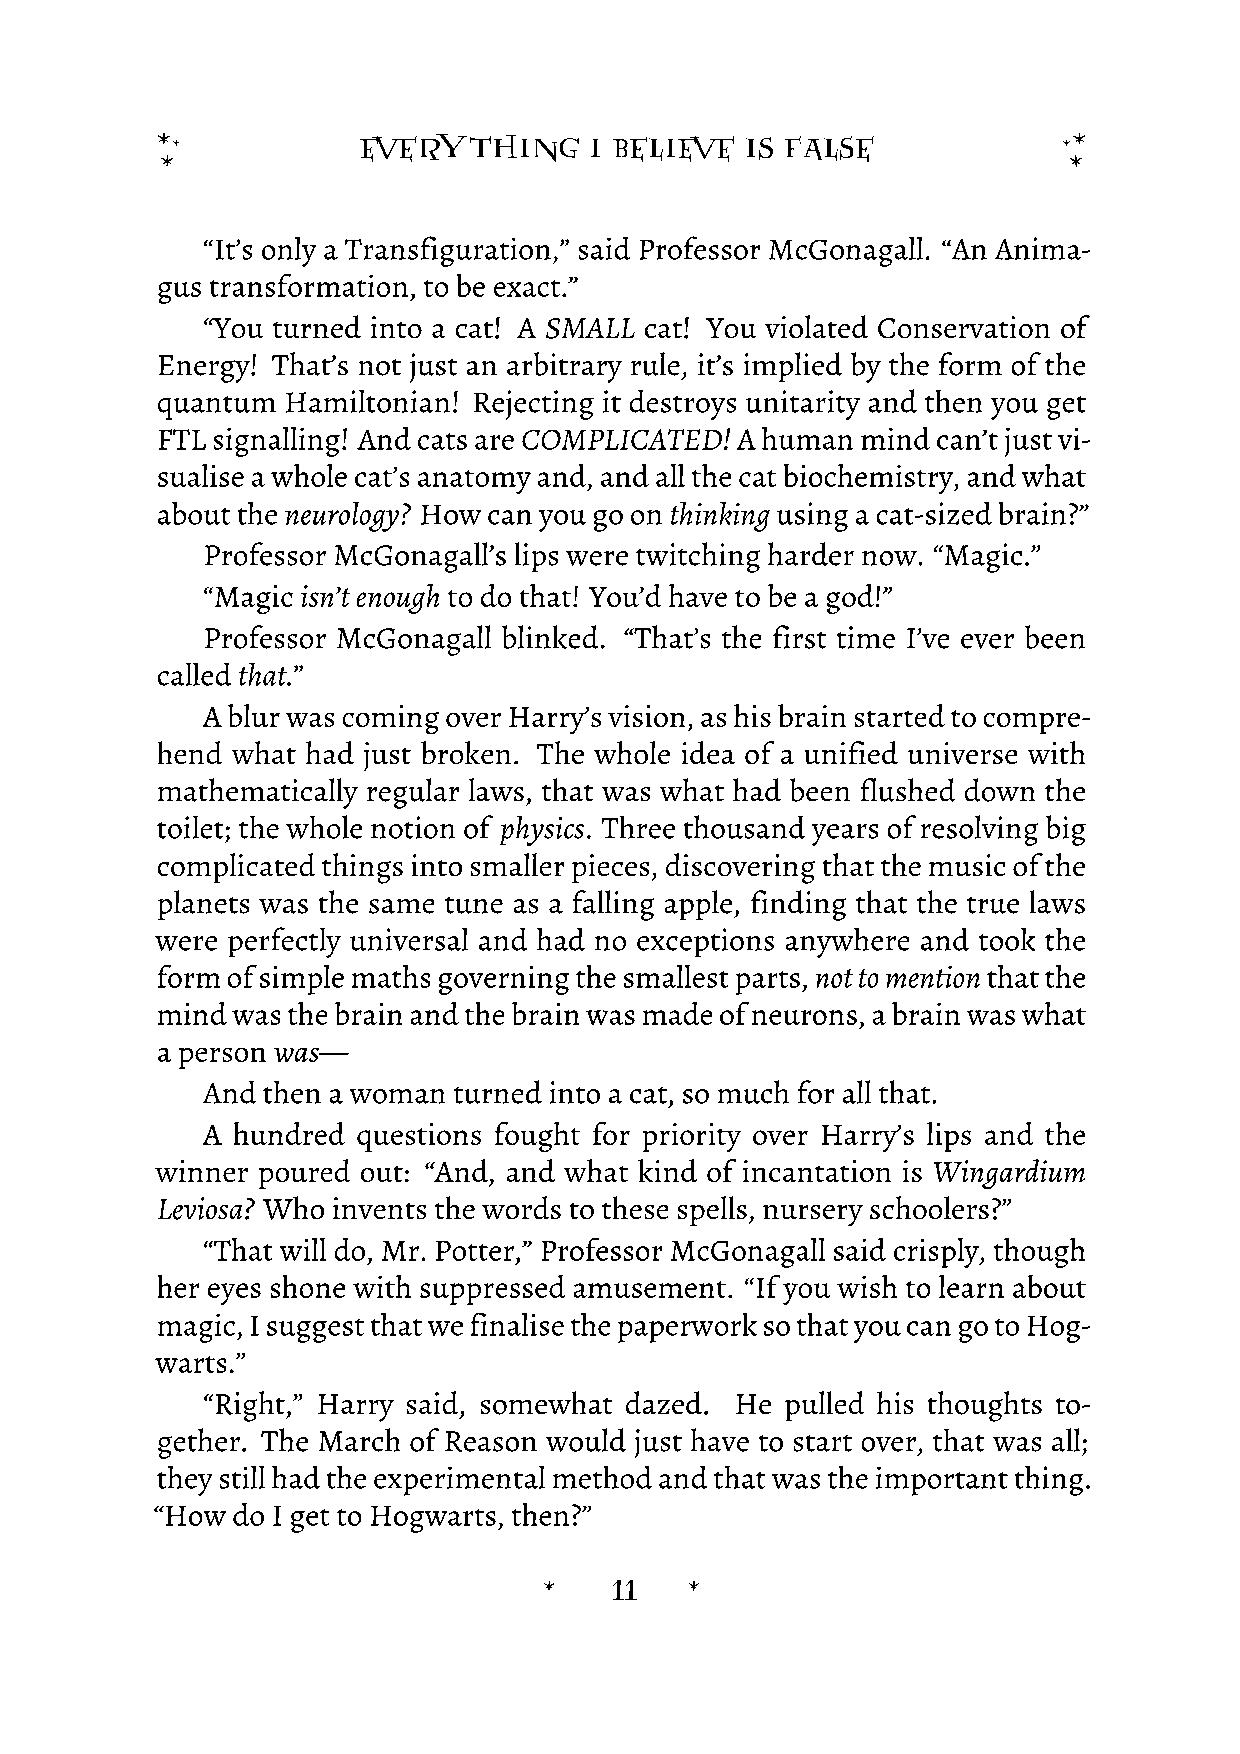chapter: (354, 129, 872, 162)
content: (148, 228, 1094, 1537)
content_pagenumber: (604, 1574, 637, 1604)
